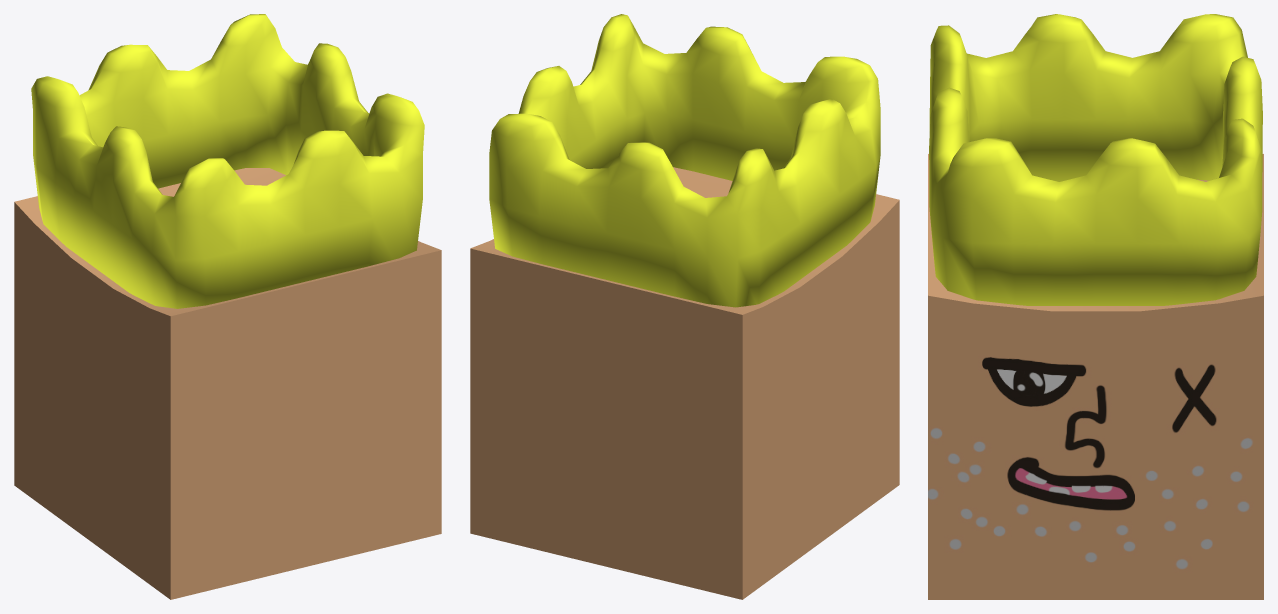
Rendered from pirate.fbx.
3 renders of one model, left to right at view 1: azimuth 30°, elevation 25°; view 2: azimuth 150°, elevation 25°; view 3: azimuth 270°, elevation 25°, orthographic. The views are drawn at different scales.
Visible parts, largest first — view 1: Cube.001; view 2: Cube.001; view 3: Cube.001.
Part boxes in pixels (x1=…): Cube.001: x1=14, y1=14, x2=441, y2=599; Cube.001: x1=470, y1=14, x2=899, y2=599; Cube.001: x1=928, y1=14, x2=1263, y2=599.
Size of the model in its own units: 200 by 298 by 200.
Materials: 2 (1 with a texture image).
